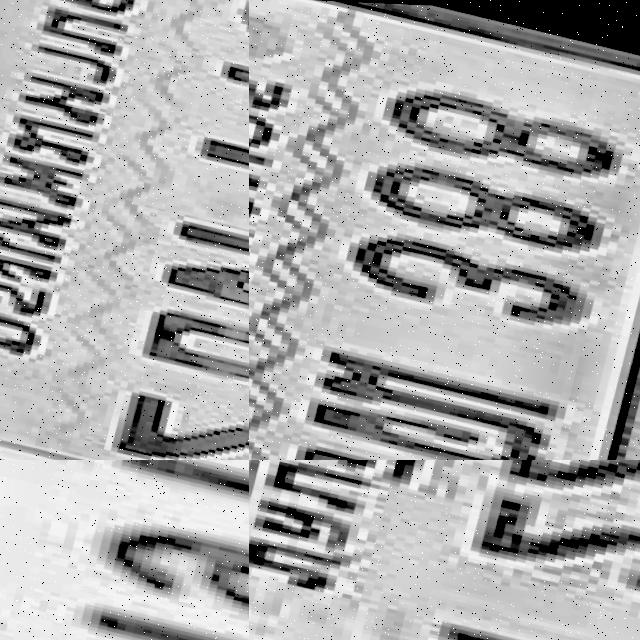license-plate: (249, 0, 640, 460), (0, 0, 249, 460), (249, 460, 640, 640), (0, 460, 249, 640)
